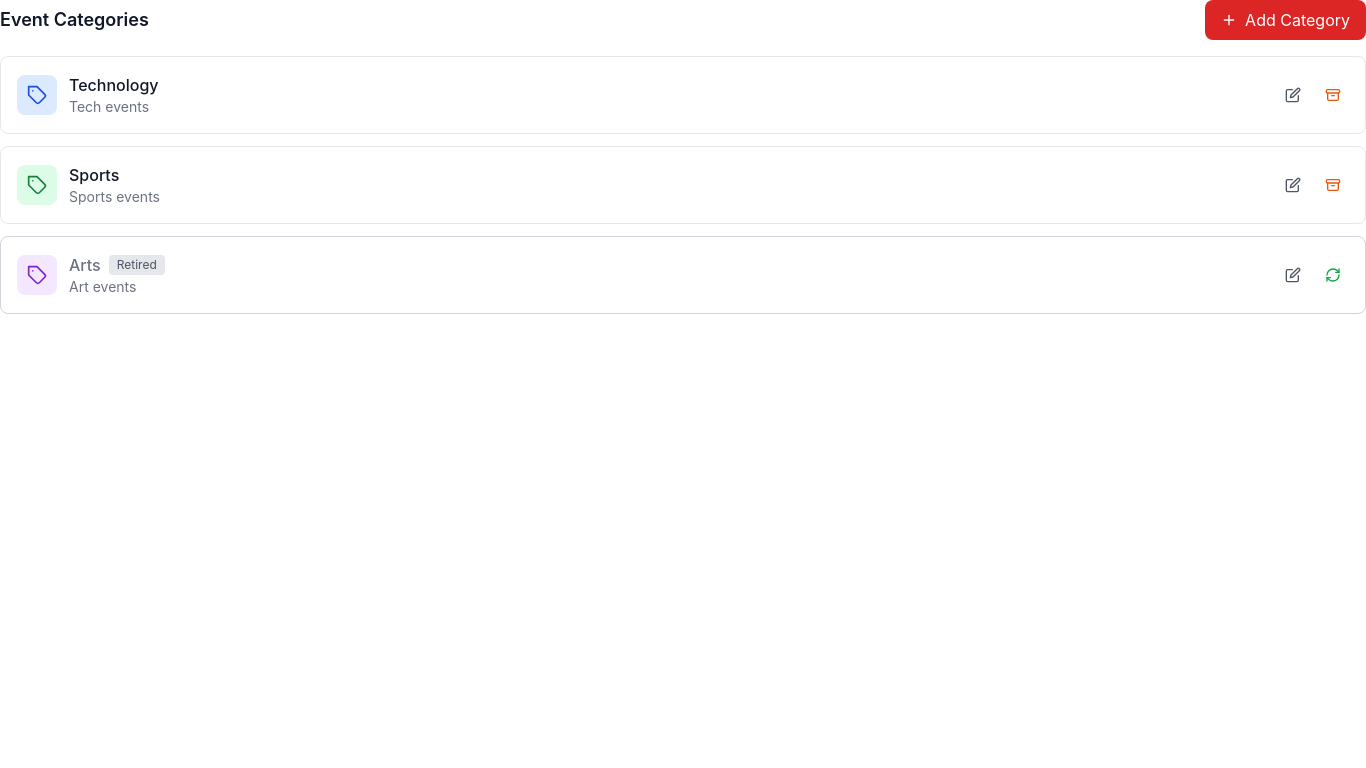
it: CategoryVenueManager Component - Complete Coverage › Loading State › shows loading state in confirmation modal
The width and height of the screenshot is (1366, 768).
Step 1. Click the button titled "Retire" in the row of "Technology" → (1333, 95), box top-left (1317, 79), bottom-right (1349, 111)
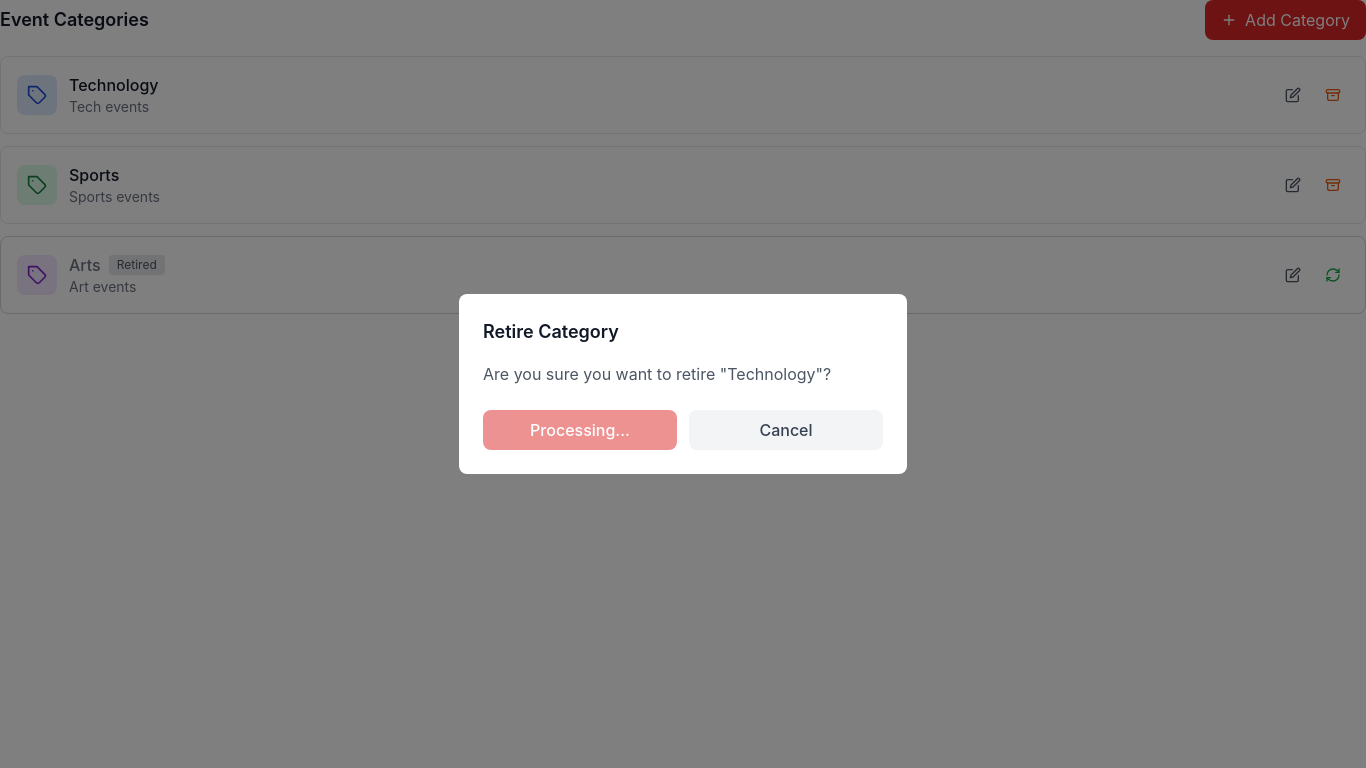
Expected: the button "Processing..." is shown, top-left (483, 410), bottom-right (677, 450)
